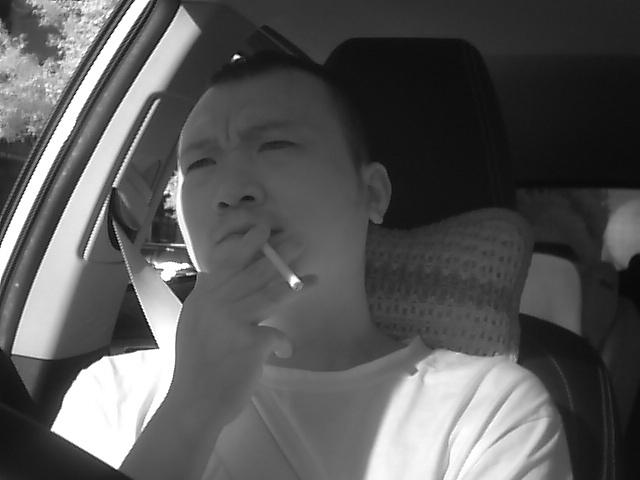hand: (174, 226, 307, 397)
